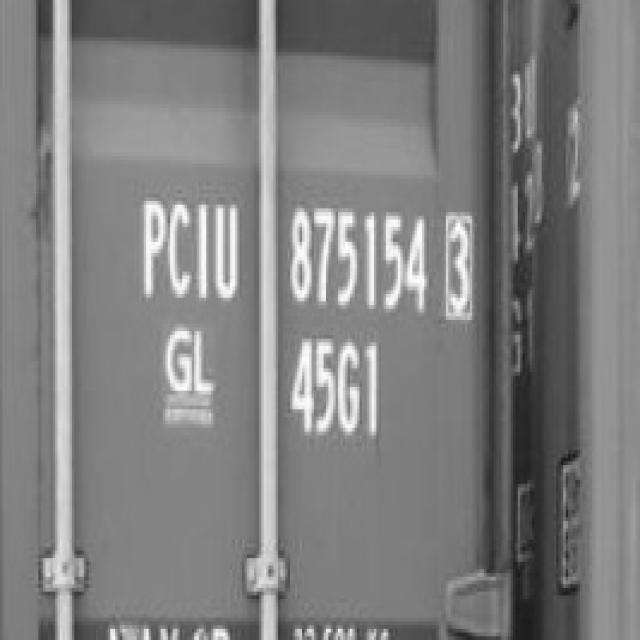dv: (438, 202, 478, 320)
owner: (122, 184, 248, 307)
serial: (279, 200, 432, 321)
size: (291, 333, 388, 447)
